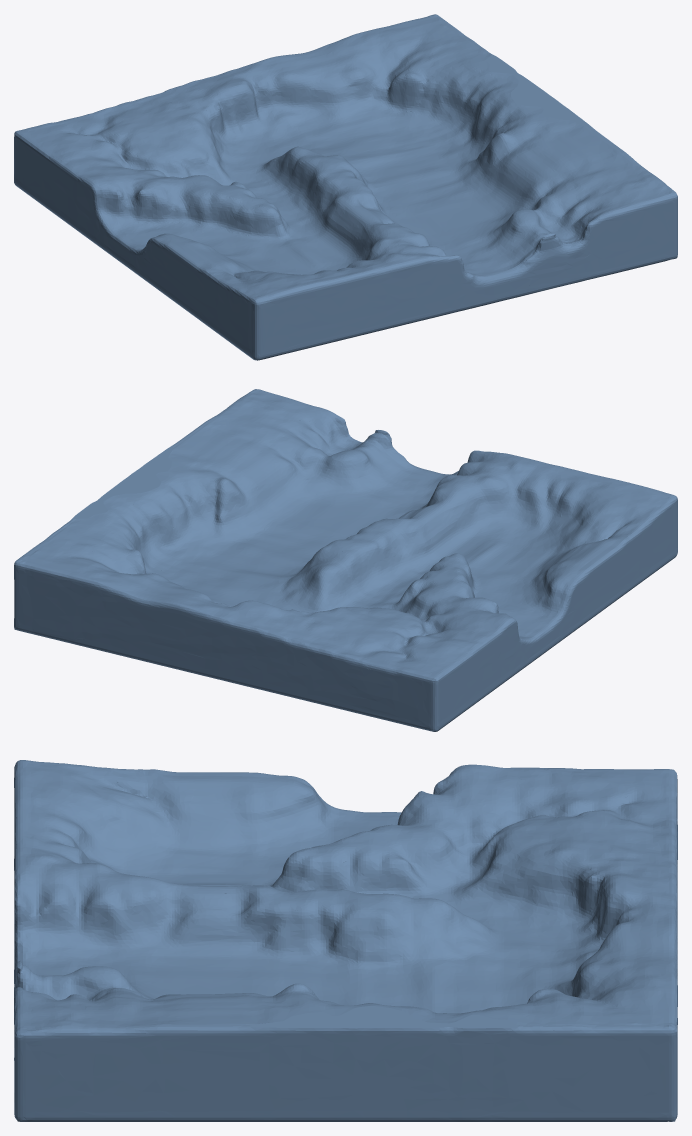
The model's file is sin3dm_canyon.glb.
3 views of the same model, one above another, from view 1: azimuth 30°, elevation 25°; view 2: azimuth 150°, elevation 25°; view 3: azimuth 270°, elevation 25° (orthographic). The views are drawn at different scales.
Parts seen in each view (by area): view 1: sinddm_canyon; view 2: sinddm_canyon; view 3: sinddm_canyon.
Boxes of the visible parts, box(x1,y1,x2,y2) form: sinddm_canyon: box(14, 14, 677, 360); sinddm_canyon: box(14, 389, 677, 731); sinddm_canyon: box(14, 760, 677, 1121).
Bounding box in the file's own units: 5.35 × 0.8307 × 5.32.
